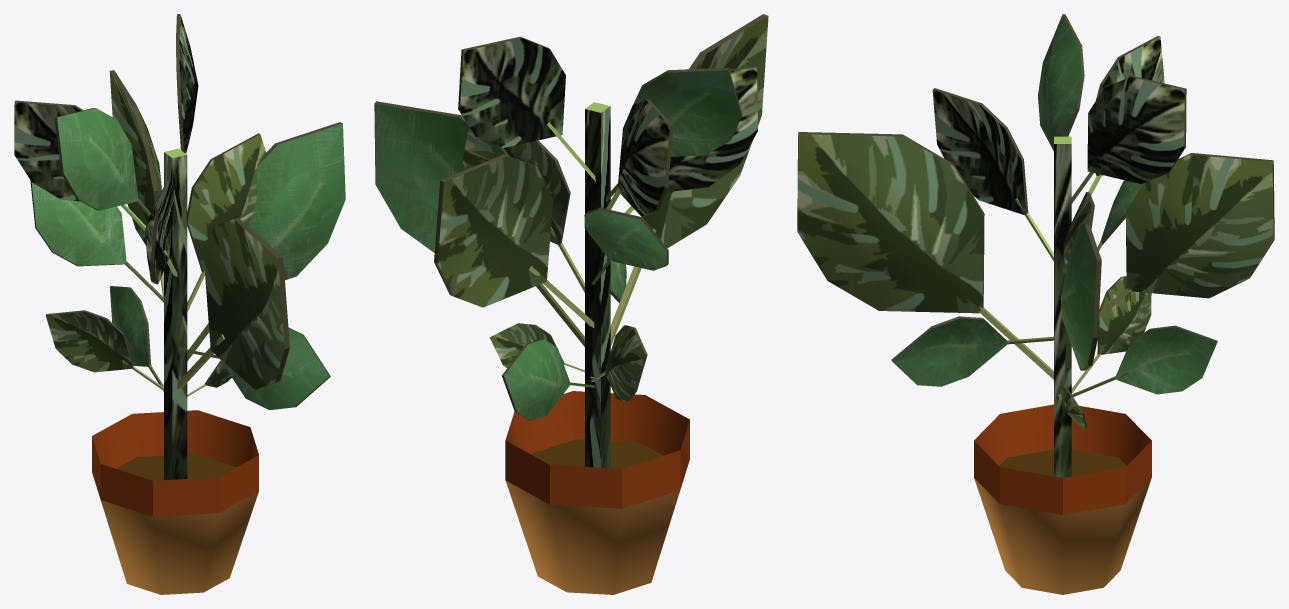
The model's file is Potted_Plant_Large.fbx.
3 views of the same model, side by side, from view 1: azimuth 30°, elevation 25°; view 2: azimuth 150°, elevation 25°; view 3: azimuth 270°, elevation 25° (orthographic). The views are drawn at different scales.
Visible parts, largest first — view 1: Potted_Plant; view 2: Potted_Plant; view 3: Potted_Plant.
Boxes of the visible parts, x1,y1,x2,y2 form: Potted_Plant: [14, 14, 345, 594]; Potted_Plant: [374, 14, 768, 594]; Potted_Plant: [797, 14, 1274, 594].
Bounding box in the file's own units: 145 × 225 × 190.
